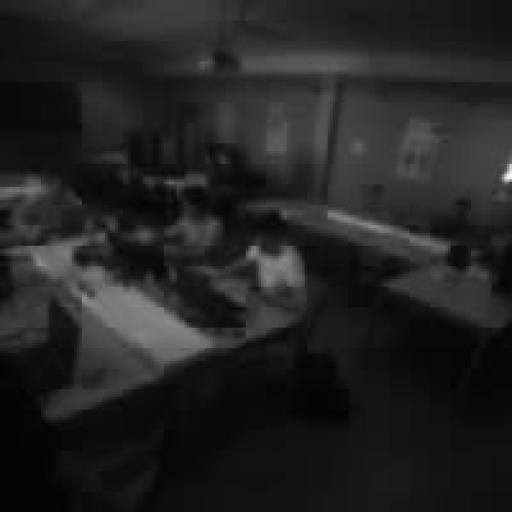human: (210, 213, 307, 309), (11, 177, 84, 243), (164, 187, 222, 261), (433, 198, 476, 240)
